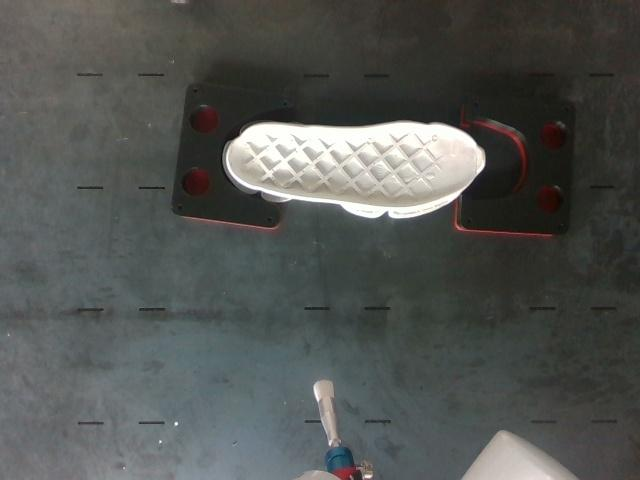shoes: (228, 123, 483, 207)
